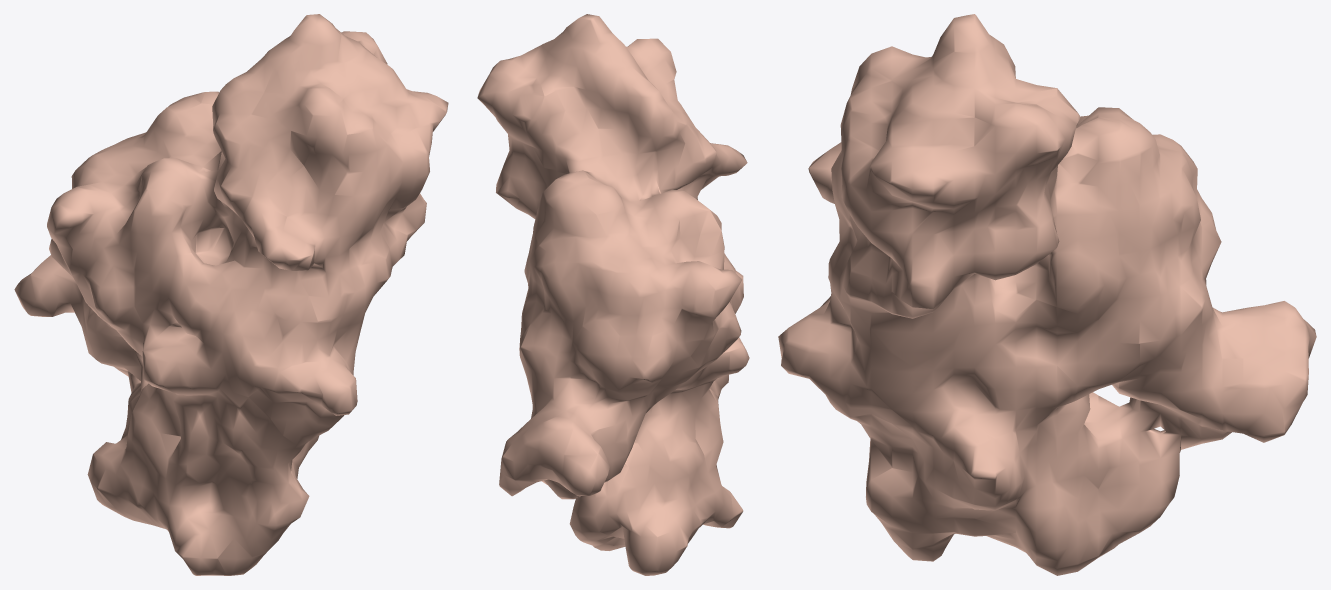
File: profilinactin.dae
3 views of the same model, side by side, from view 1: azimuth 30°, elevation 25°; view 2: azimuth 150°, elevation 25°; view 3: azimuth 270°, elevation 25° (orthographic). The views are drawn at different scales.
Visible parts, largest first — view 1: CoarseMS_2btf; view 2: CoarseMS_2btf; view 3: CoarseMS_2btf.
Part boxes in pixels (box(x1,y1,x2,y2)): CoarseMS_2btf: box(14, 14, 448, 575); CoarseMS_2btf: box(477, 14, 749, 575); CoarseMS_2btf: box(778, 14, 1316, 575).
Bounding box in the file's own units: 54.43 × 84.8 × 69.04.
